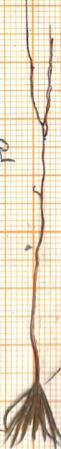flower: (1, 380, 61, 449)
root: (22, 0, 61, 248)
stem: (28, 248, 46, 383)
